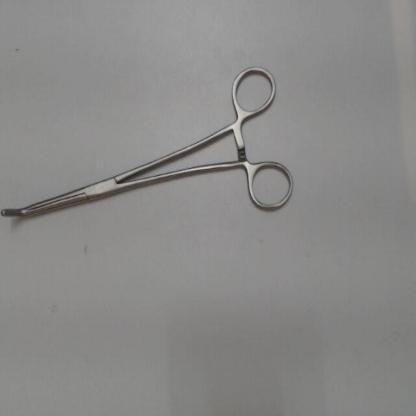Lahey Forceps: (0, 60, 300, 225)
